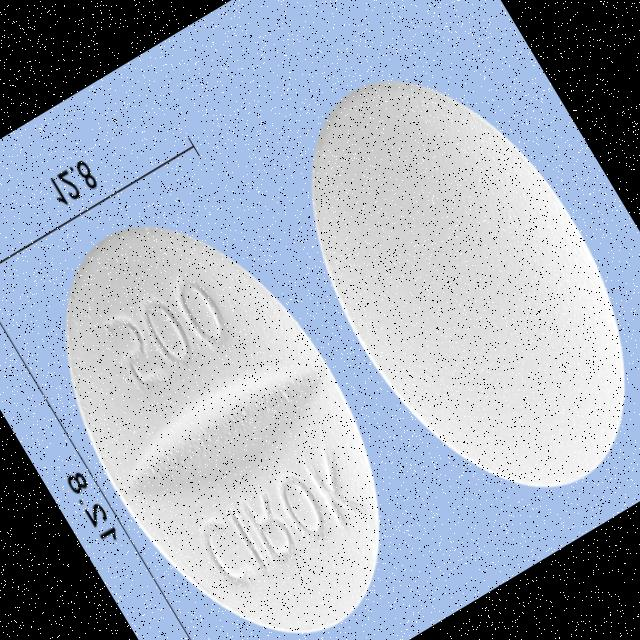Cirok: (0, 163, 453, 640), (241, 20, 640, 550)
